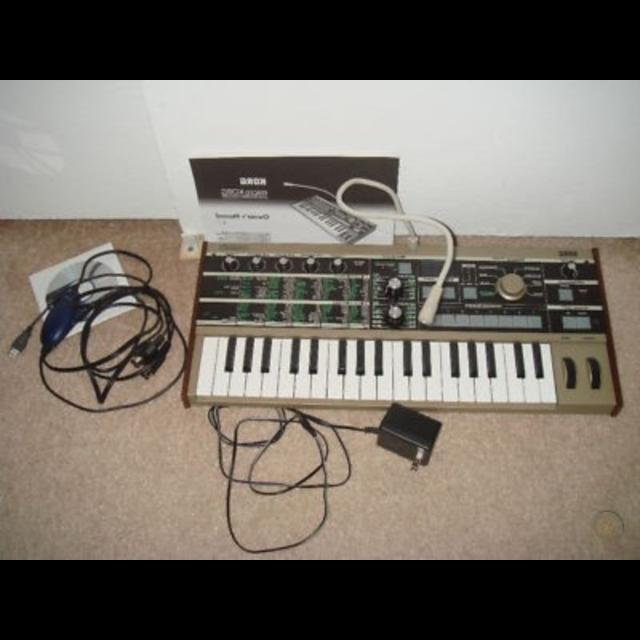Electronic-Keyboard: (177, 234, 626, 418)
